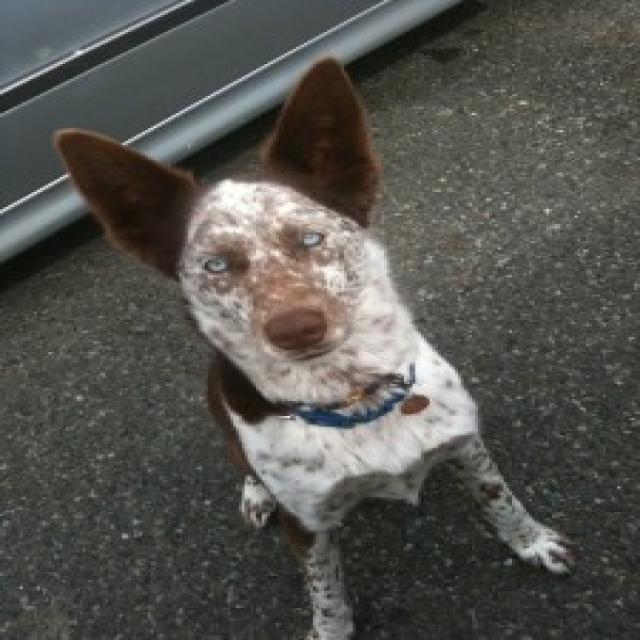dog: (6, 55, 482, 427)
